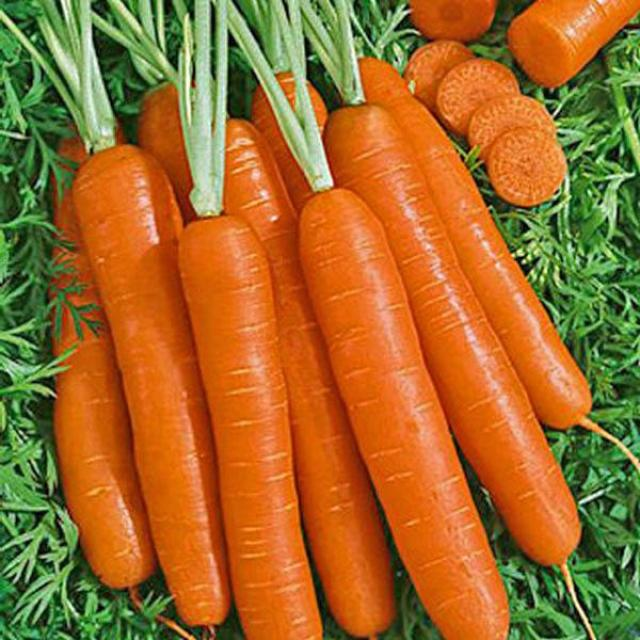Carrot: (39, 62, 584, 640), (183, 0, 398, 635), (297, 0, 496, 640), (55, 0, 208, 640), (175, 19, 316, 640), (476, 0, 640, 89), (461, 70, 558, 182), (420, 44, 522, 144), (492, 98, 572, 222), (393, 25, 487, 119)
